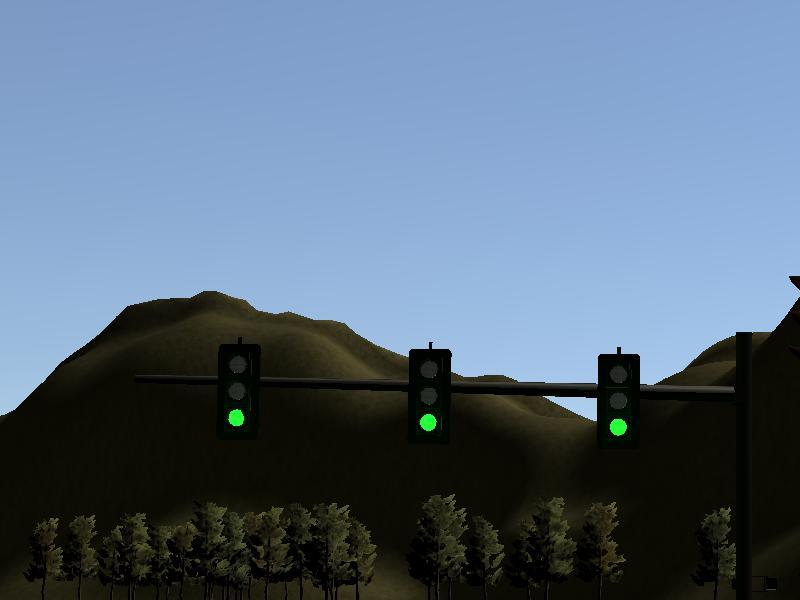Green: (216, 343, 260, 439), (596, 353, 640, 449), (408, 349, 452, 445)
